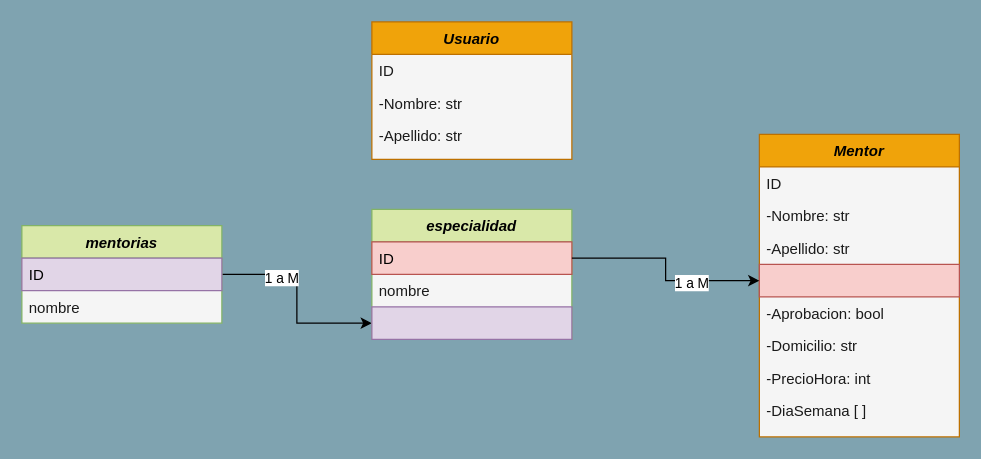
This 981x459 diagram has some shape labels left out. The centre of each missing label's shape, as x and y in pixels:
"idesp" goes at pixel 858 280.
"idmen" goes at pixel 471 322.
